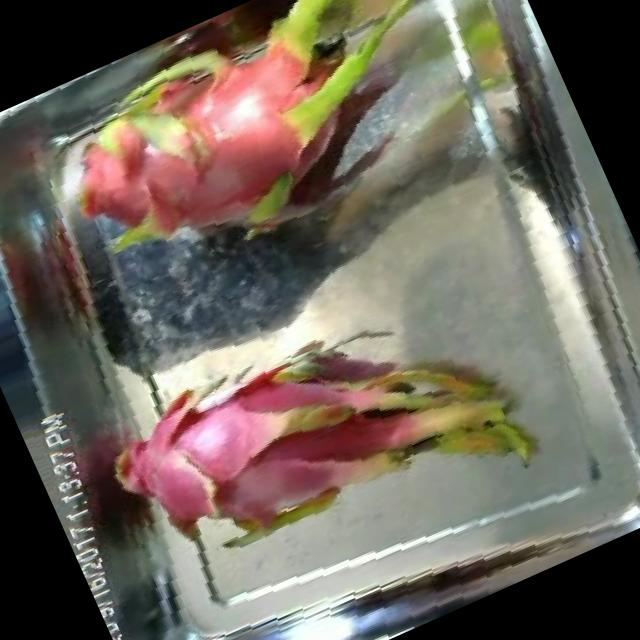Fruit: (162, 0, 347, 89)
